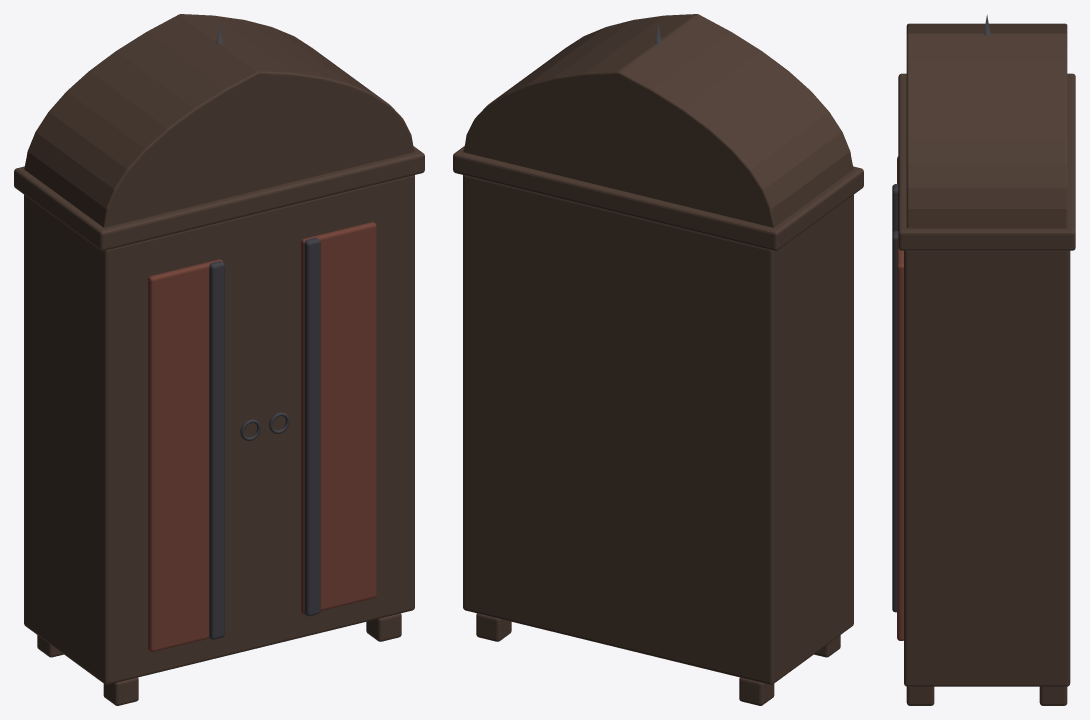
File: wardrobe.glb
3 views of the same model, side by side, from view 1: azimuth 30°, elevation 25°; view 2: azimuth 150°, elevation 25°; view 3: azimuth 270°, elevation 25° (orthographic).
Parts seen in each view (by area): view 1: GD_wardrobe; view 2: GD_wardrobe; view 3: GD_wardrobe.
Boxes of the visible parts, x1,y1,x2,y2 form: GD_wardrobe: (14,14,424,705); GD_wardrobe: (453,14,863,705); GD_wardrobe: (892,14,1075,705).
Size of the model in its own units: 1.36 by 2.48 by 0.6625.
